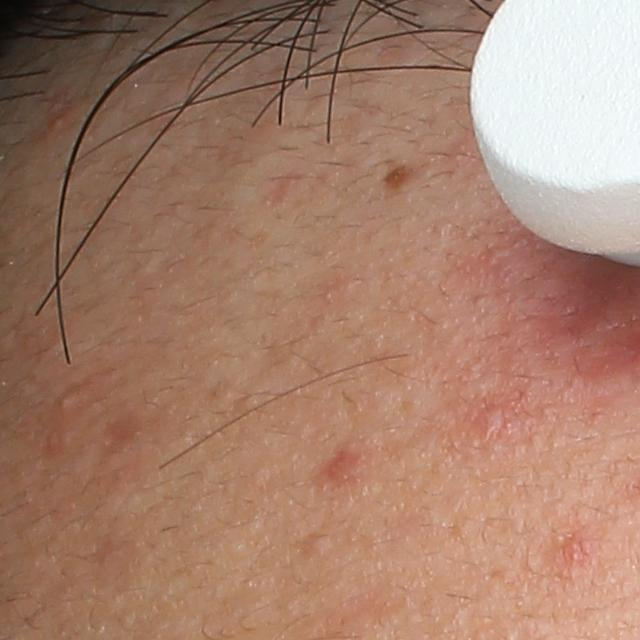comedo: (303, 532, 333, 558), (55, 389, 76, 410)
papule: (475, 388, 527, 438), (321, 444, 364, 488)
